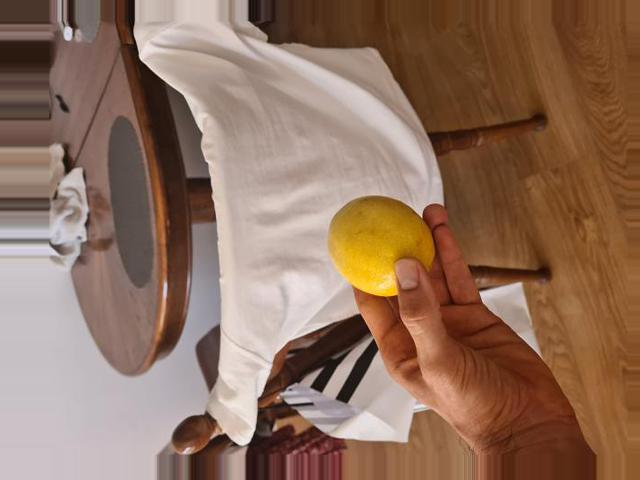lemon: (329, 198, 432, 291)
